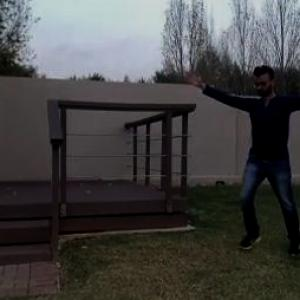takeoff: (177, 64, 299, 254)
